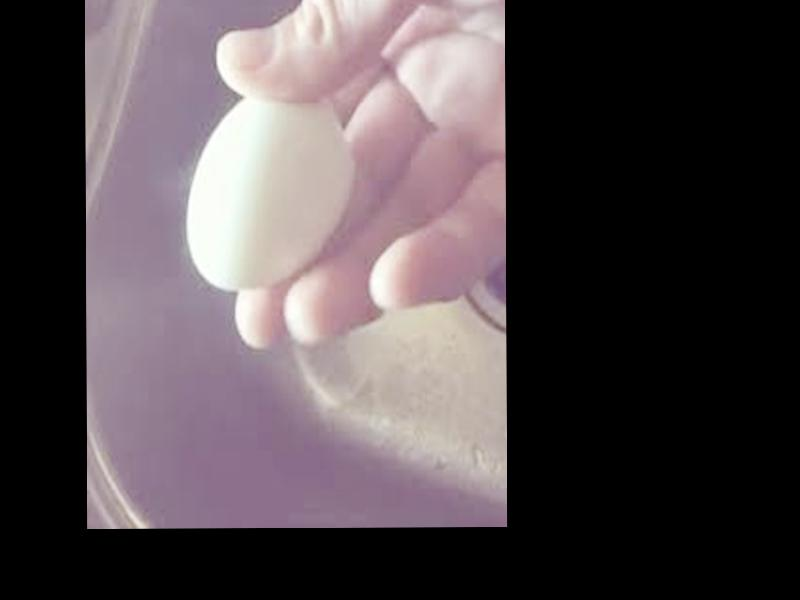Eggs: (186, 95, 351, 291)
